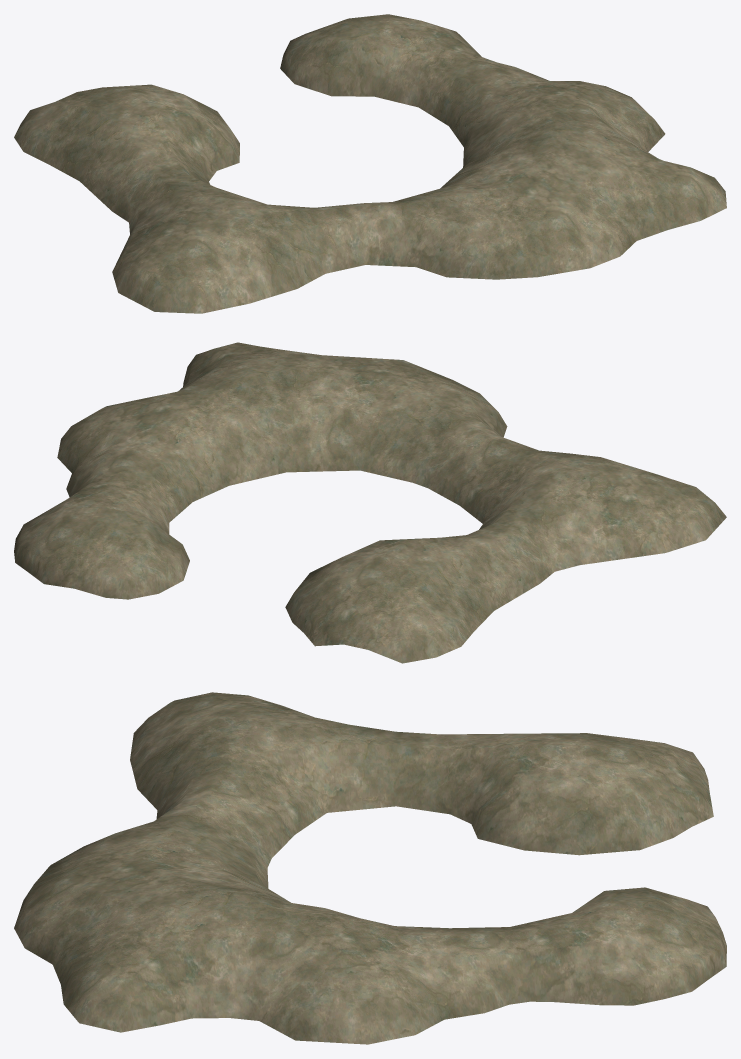
Rendered from OVERHILL_A_01_FLOOD_CAVE_ROOF.fbx.
The picture shows the model from 3 angles, top to bottom: view 1: azimuth 30°, elevation 25°; view 2: azimuth 150°, elevation 25°; view 3: azimuth 270°, elevation 25°; orthographic projection. The views are drawn at different scales.
Parts seen in each view (by area): view 1: OVERHILL_A_01_FLOOD_CAVE_ROOF; view 2: OVERHILL_A_01_FLOOD_CAVE_ROOF; view 3: OVERHILL_A_01_FLOOD_CAVE_ROOF.
Part boxes in pixels (bbox=[...]): OVERHILL_A_01_FLOOD_CAVE_ROOF: bbox=[14, 14, 726, 313]; OVERHILL_A_01_FLOOD_CAVE_ROOF: bbox=[14, 342, 726, 663]; OVERHILL_A_01_FLOOD_CAVE_ROOF: bbox=[14, 692, 726, 1044].
Size of the model in its own units: 202387 by 19822 by 181767.
Materials: 1 (1 with a texture image).
